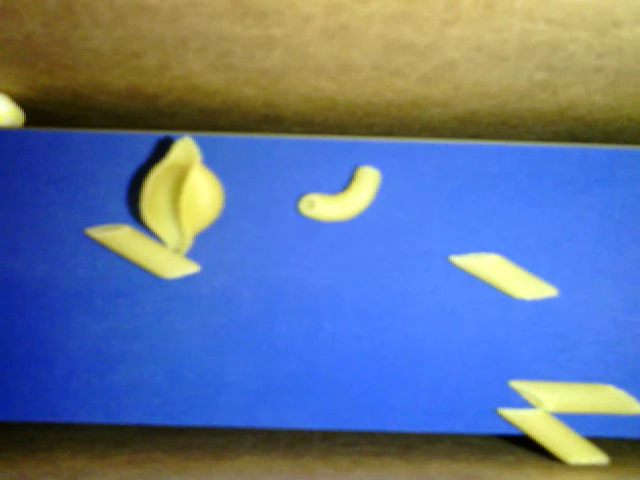elbow: (297, 165, 384, 223)
penne: (496, 407, 611, 467), (84, 224, 202, 280), (446, 249, 561, 302), (507, 379, 639, 414)
shell: (138, 134, 226, 255)
